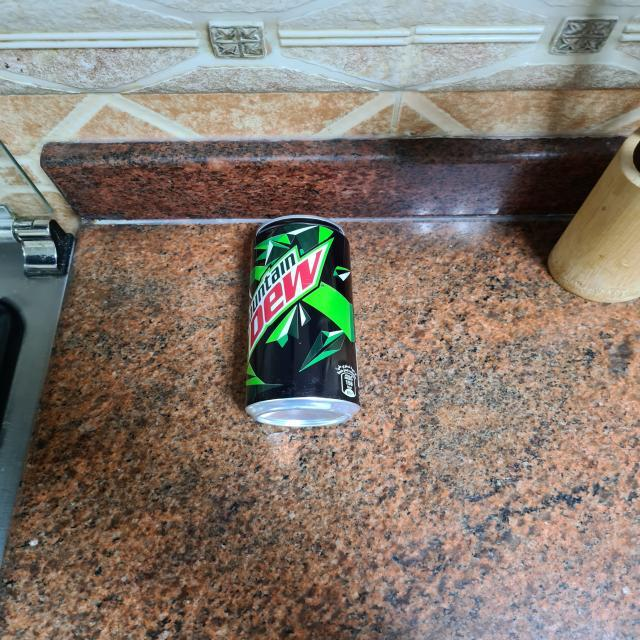can: (240, 216, 364, 426)
